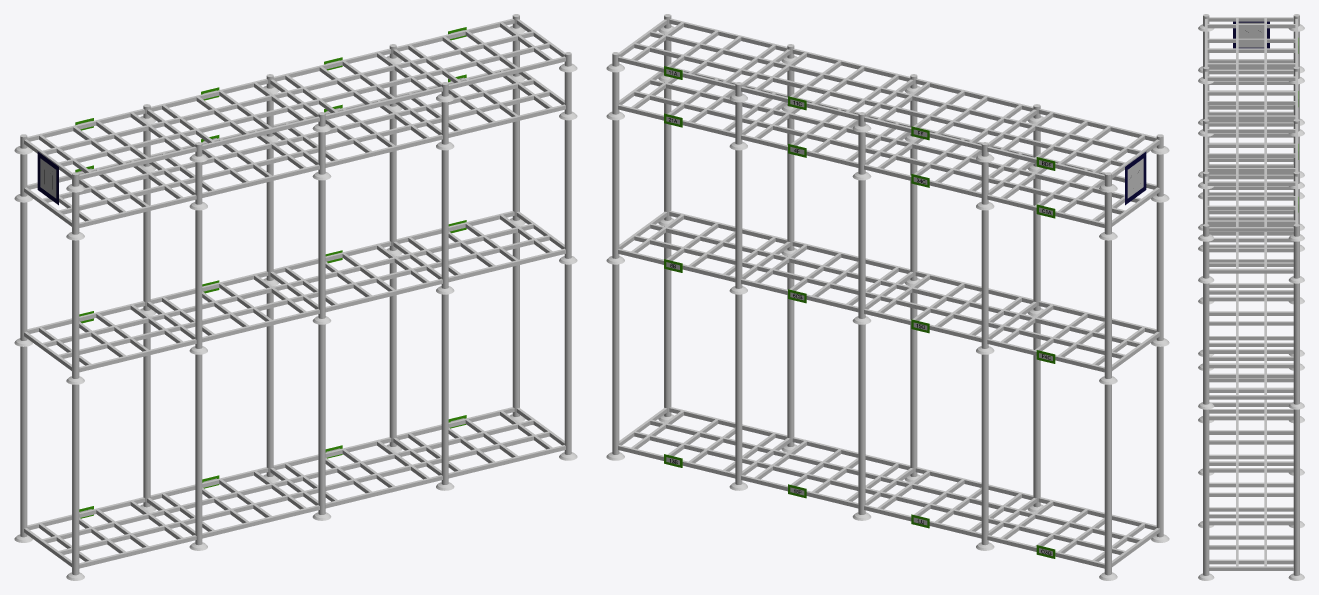
The model's file is shelves_imav.dae.
3 renders of one model, left to right at view 1: azimuth 30°, elevation 25°; view 2: azimuth 150°, elevation 25°; view 3: azimuth 270°, elevation 25°, orthographic. The views are drawn at different scales.
Visible parts, largest first — view 1: Plane_001; view 2: Plane_001; view 3: Plane_001.
Boxes of the visible parts, x1=… form: Plane_001: x1=14, y1=14, x2=577, y2=580; Plane_001: x1=606, y1=14, x2=1169, y2=580; Plane_001: x1=1198, y1=14, x2=1304, y2=580.
Size of the model in its own units: 5.54 by 1.15 by 4.2.
